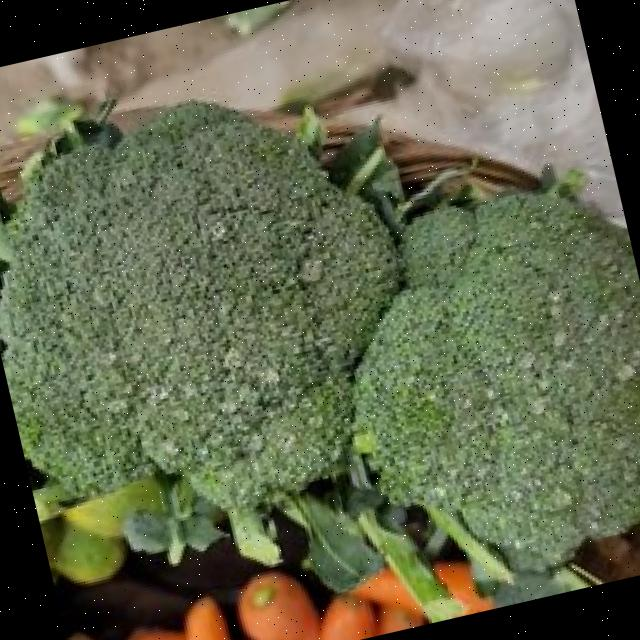Broccoli: (0, 106, 640, 568), (0, 107, 399, 508), (354, 189, 640, 567)
